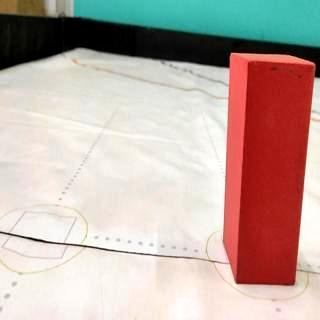redbox: (220, 51, 314, 286)
